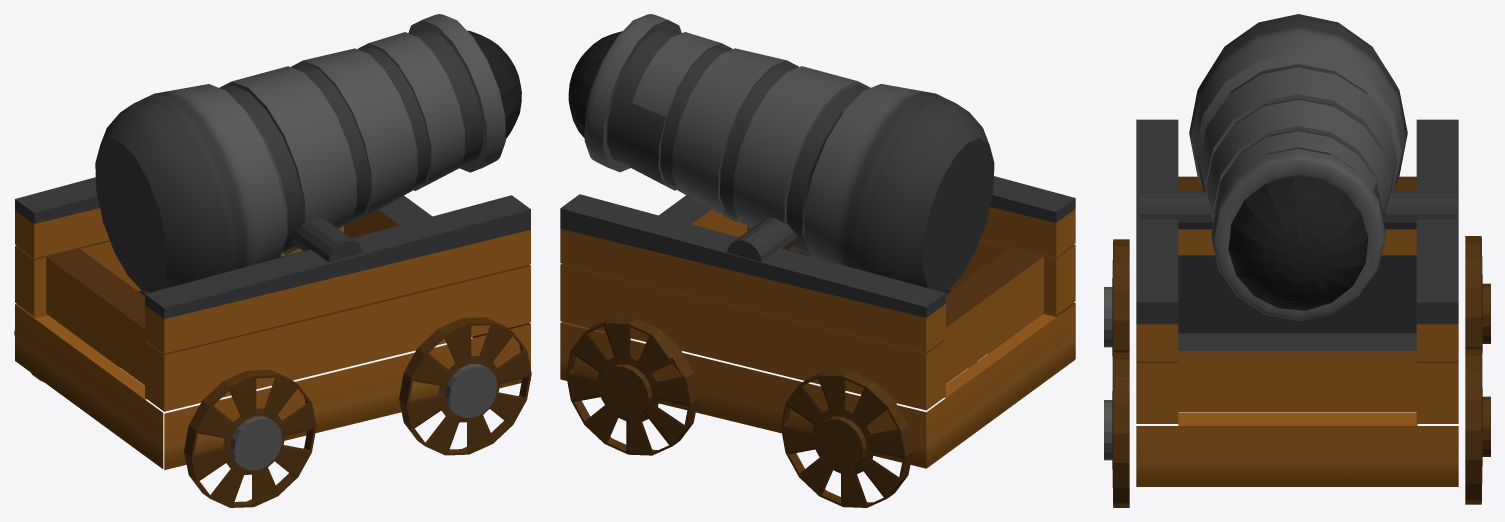
File: Canhao.glb
3 renders of one model, left to right at view 1: azimuth 30°, elevation 25°; view 2: azimuth 150°, elevation 25°; view 3: azimuth 270°, elevation 25°, orthographic. The views are drawn at different scales.
Visible parts, largest first — view 1: Canhao; view 2: Canhao; view 3: Canhao.
Boxes of the visible parts, box(x1,y1,x2,y2) form: Canhao: box(14, 14, 531, 507); Canhao: box(560, 14, 1075, 507); Canhao: box(1104, 14, 1490, 507).
Bounding box in the file's own units: 2.24 × 1.79 × 1.65.
Materials: 1 (1 with a texture image).
